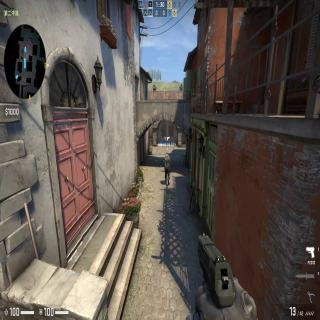CT-Body: (164, 152, 170, 185)
